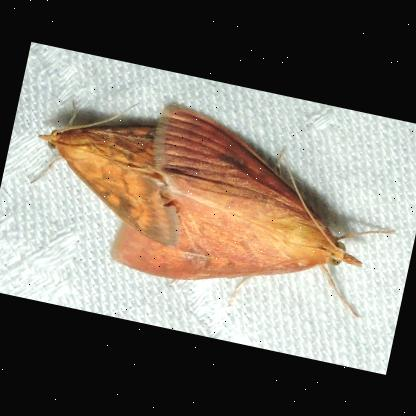Asian Corn Borer Moth: (101, 93, 416, 340), (17, 81, 206, 251)
